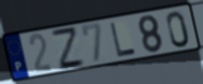0: (164, 9, 192, 49)
2: (28, 32, 54, 76)
7: (79, 20, 106, 65)
8: (138, 14, 165, 54)
L: (108, 22, 138, 59)
Z: (49, 26, 87, 72)
